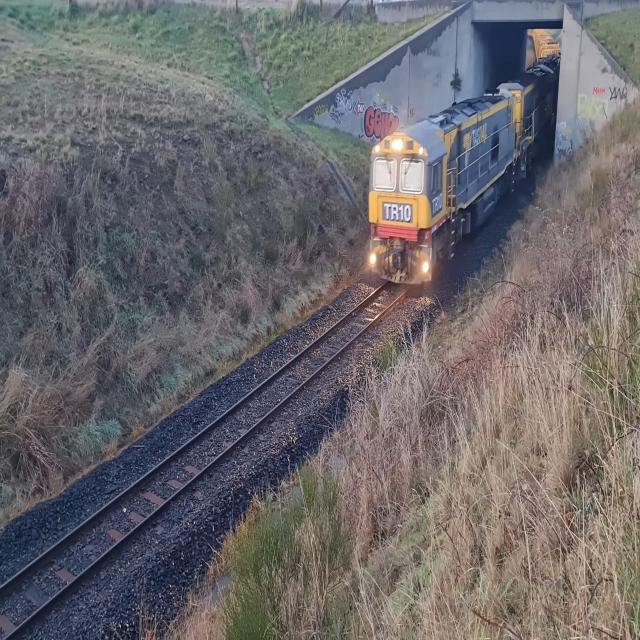locomotive: (365, 79, 518, 292)
